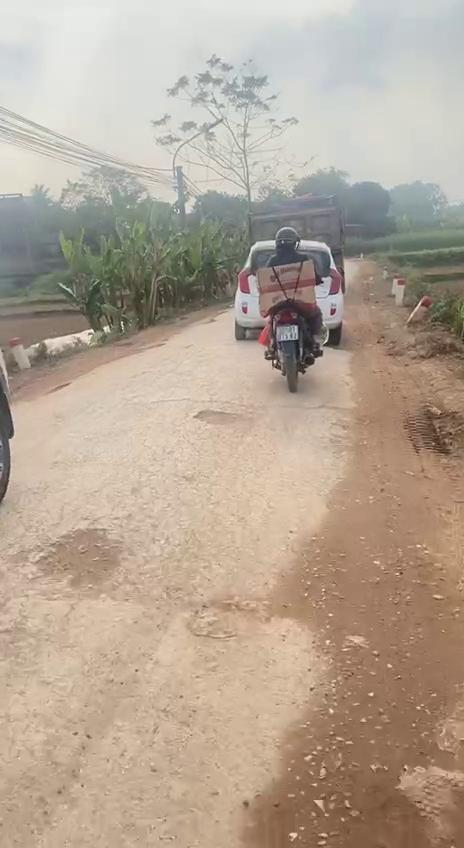pothole: (31, 528, 130, 604), (196, 404, 247, 435)
